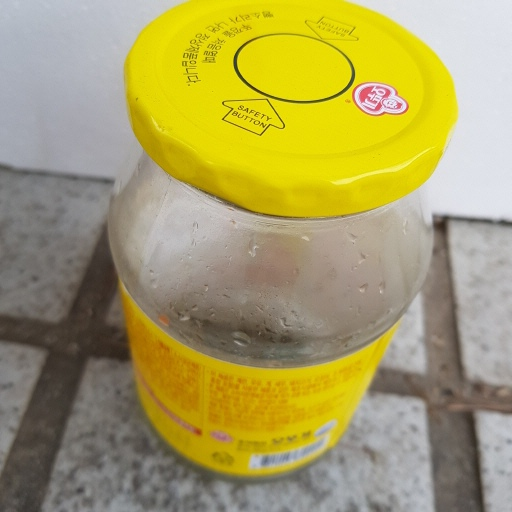Glass_5: (101, 1, 457, 488)
